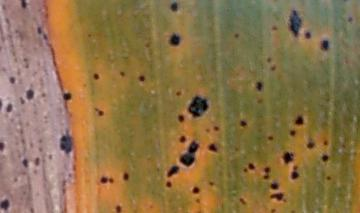tarspot: (178, 139, 200, 168), (186, 95, 209, 118), (287, 9, 304, 38), (58, 127, 74, 157), (288, 164, 301, 181), (165, 164, 179, 179), (280, 150, 295, 164), (168, 32, 181, 47), (292, 114, 306, 127), (269, 192, 285, 203), (24, 87, 36, 101), (261, 165, 272, 180), (93, 105, 105, 118), (1, 197, 10, 212), (253, 81, 264, 93), (33, 24, 44, 36), (169, 1, 179, 14), (319, 38, 329, 51), (207, 142, 218, 153), (305, 140, 315, 151), (99, 175, 109, 186), (237, 196, 247, 207), (62, 91, 72, 101), (238, 118, 248, 128), (247, 161, 256, 172), (5, 103, 14, 114), (33, 155, 41, 167), (288, 128, 297, 138), (191, 185, 200, 195), (178, 133, 186, 144), (231, 31, 242, 39), (21, 157, 29, 168), (18, 95, 26, 106), (177, 114, 186, 123), (270, 181, 279, 190), (265, 133, 274, 142), (92, 71, 100, 81), (321, 153, 329, 163), (19, 1, 27, 11), (8, 75, 16, 85), (143, 40, 151, 50), (347, 15, 355, 24), (122, 172, 130, 181), (269, 64, 277, 73), (1, 95, 5, 112), (164, 180, 172, 188), (265, 55, 273, 63), (118, 69, 126, 77), (213, 124, 220, 133), (175, 88, 182, 97), (255, 97, 264, 104), (304, 30, 310, 40), (1, 141, 6, 153), (1, 2, 7, 12), (204, 126, 211, 134), (322, 139, 329, 147), (208, 180, 215, 187), (269, 206, 276, 213), (270, 25, 278, 31), (115, 204, 120, 213), (326, 175, 335, 180), (137, 75, 144, 81), (12, 175, 18, 182), (29, 206, 35, 213), (194, 197, 200, 204), (233, 146, 240, 152), (107, 177, 113, 183), (86, 32, 92, 38), (40, 92, 46, 98), (82, 82, 88, 88), (242, 166, 247, 173), (289, 209, 296, 213)
